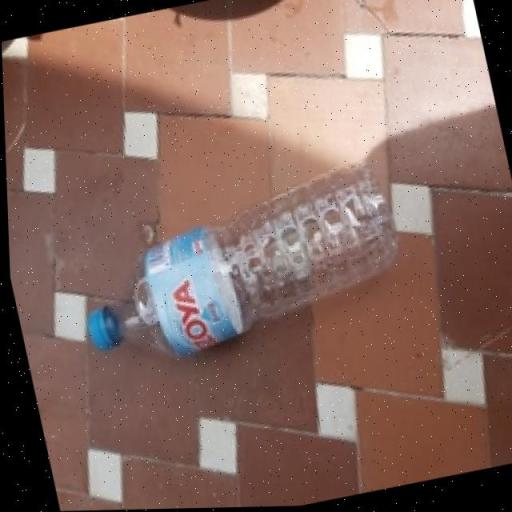plastic: (84, 164, 397, 360)
